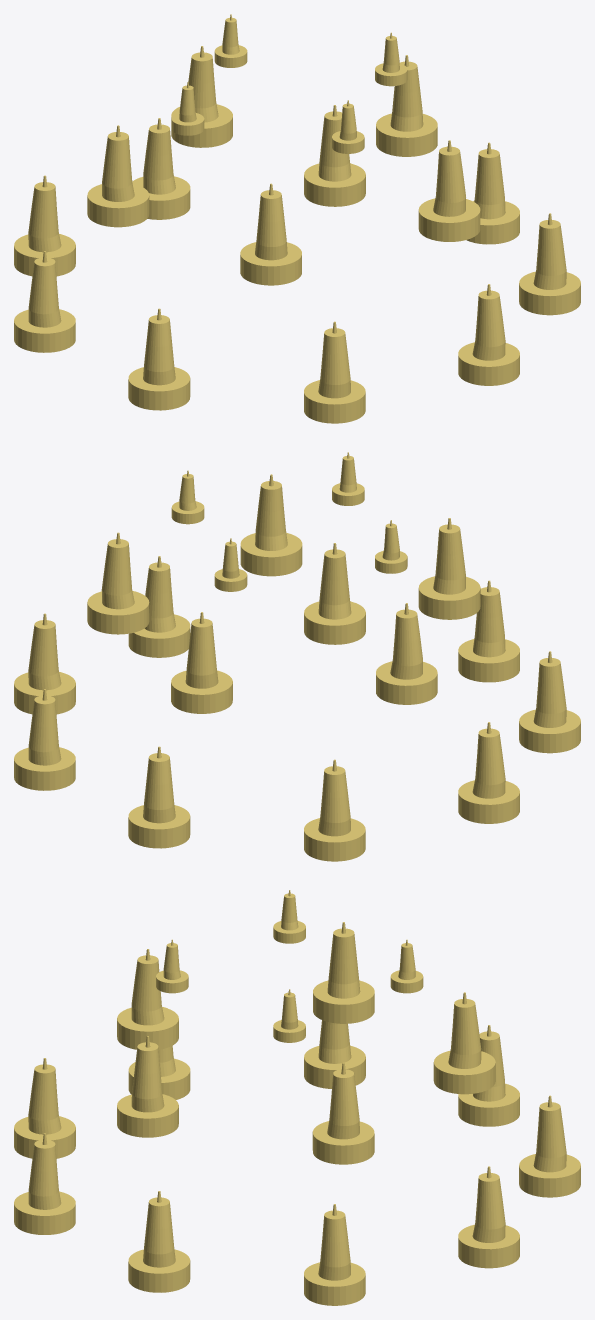
File: Candles2.glb
The picture shows the model from 3 angles, top to bottom: view 1: azimuth 30°, elevation 25°; view 2: azimuth 150°, elevation 25°; view 3: azimuth 270°, elevation 25°; orthographic projection.
Visible parts, largest first — view 1: Cylinder.005; view 2: Cylinder.005; view 3: Cylinder.005.
Boxes of the visible parts, x1=… form: Cylinder.005: x1=14, y1=14, x2=580, y2=423; Cylinder.005: x1=14, y1=452, x2=580, y2=861; Cylinder.005: x1=14, y1=890, x2=580, y2=1305.
Bounding box in the file's own units: 1.21 × 0.5695 × 1.2.
